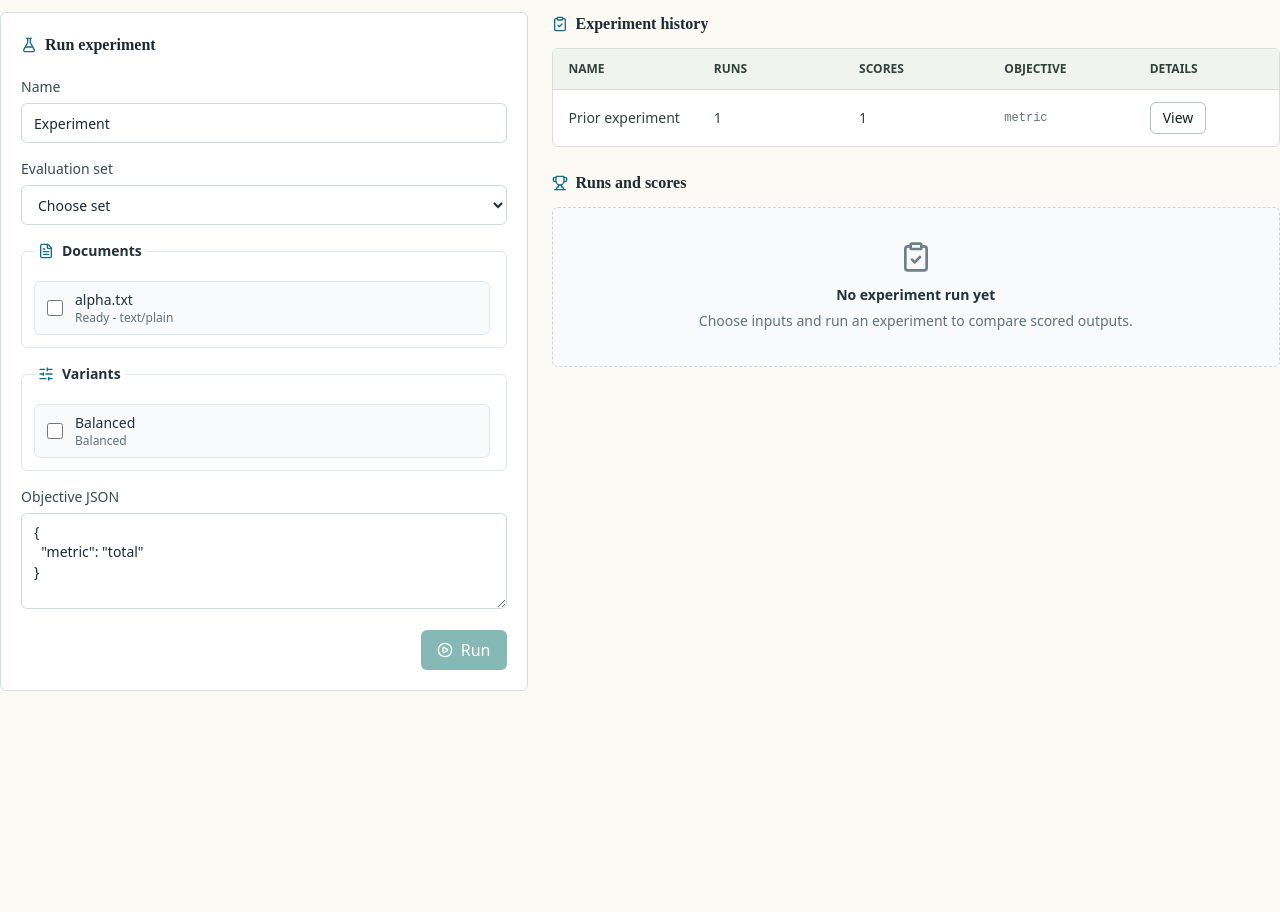
Test: ExperimentsPage › renders API-backed experiment history and refetches it after create
Expected: the text "Prior experiment" is shown, [568,108,682,128]
Expected: the text "metric" is shown, [1004,111,1048,125]
Click the button "View" at (1178, 118), box [1150,102,1206,134]
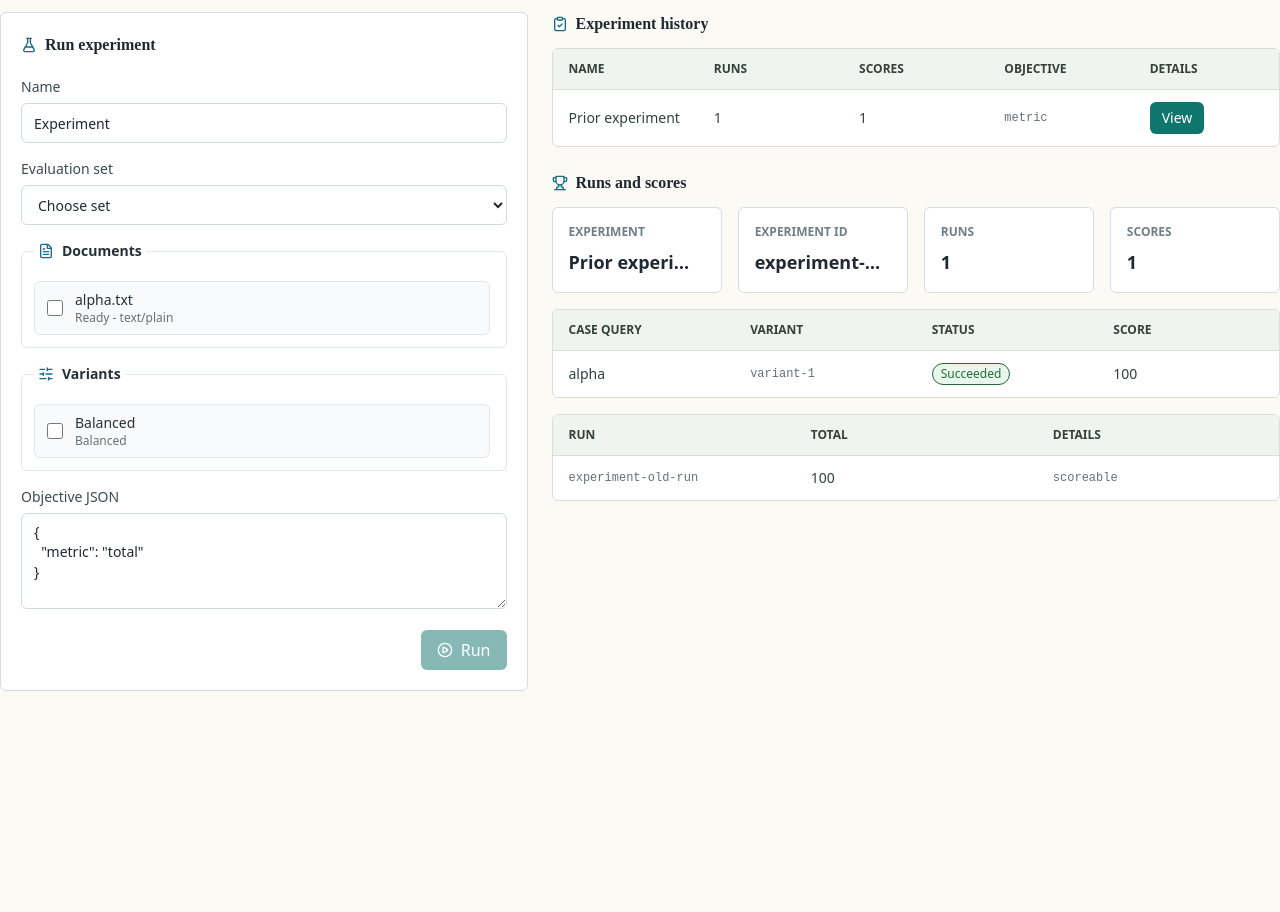
Expected: the text "experiment-old-run" is shown, [568,471,698,485]
Replace the text in the field labelled "Name" with "New experiment" at (264, 123), box [21,103,506,143]
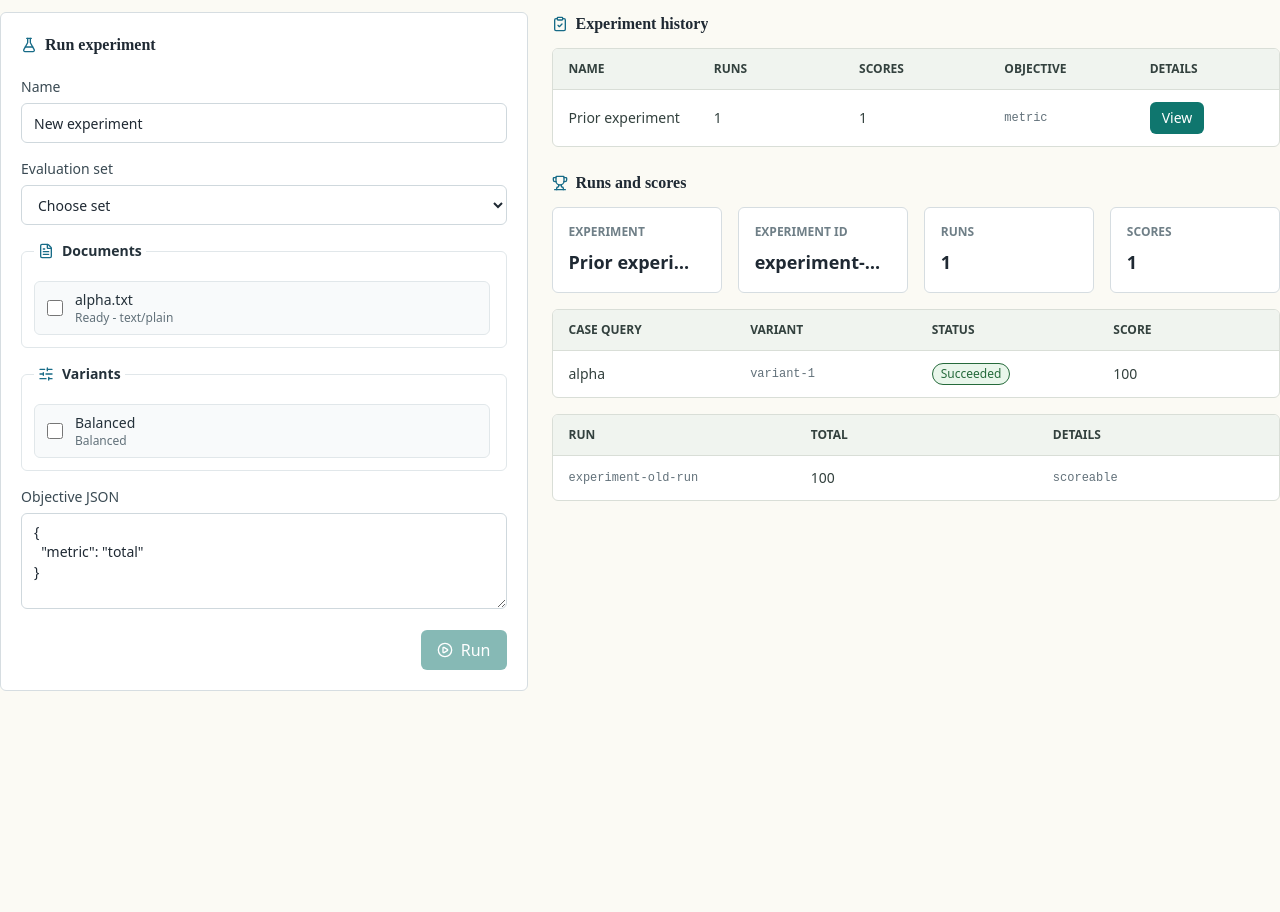
Select "Smoke cases (1)" in the dropdown labelled "Evaluation set" at (264, 205), box [21,185,506,225]
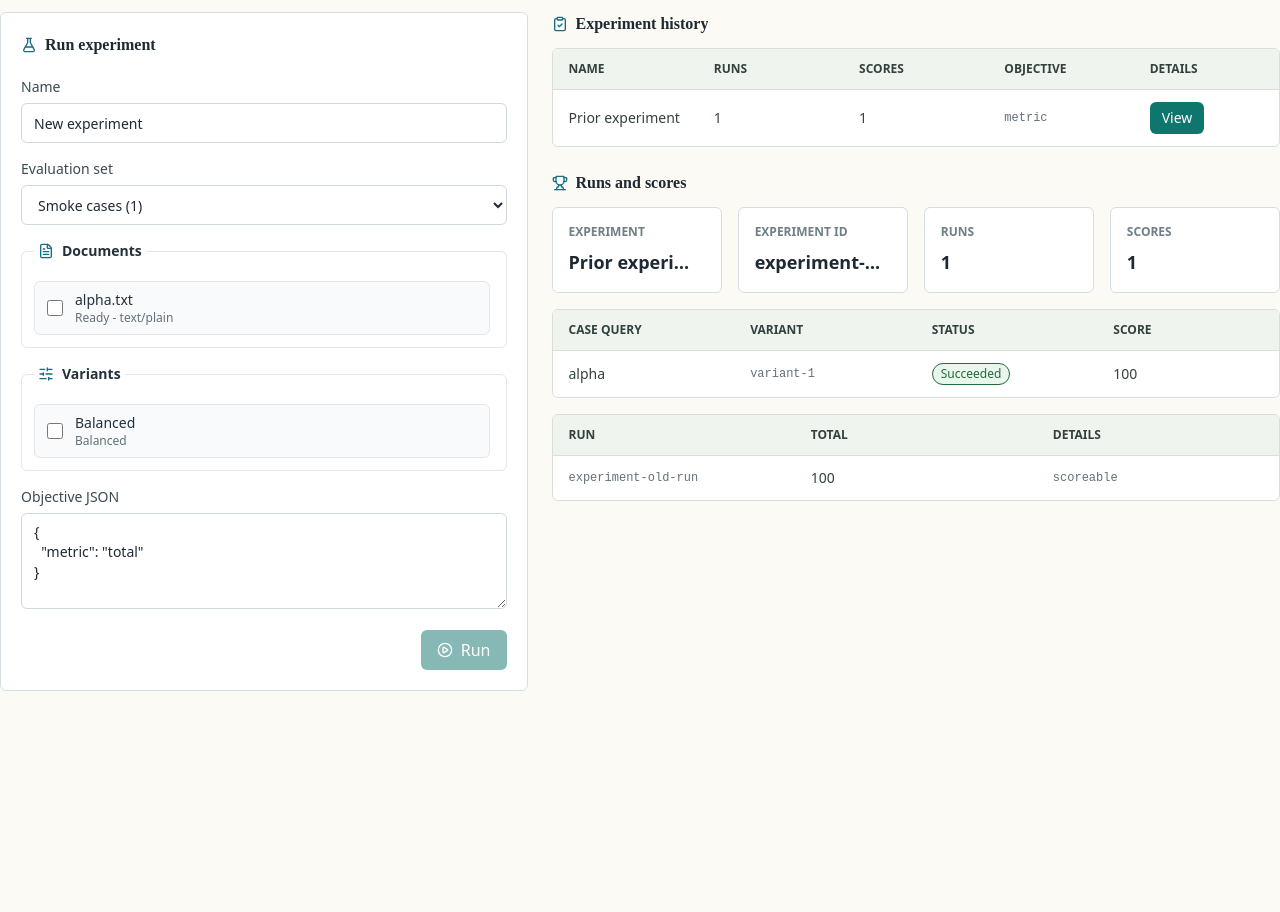
Click the checkbox labelled "alpha.txt Ready - text/plain" at (55, 308), box [47,300,63,316]
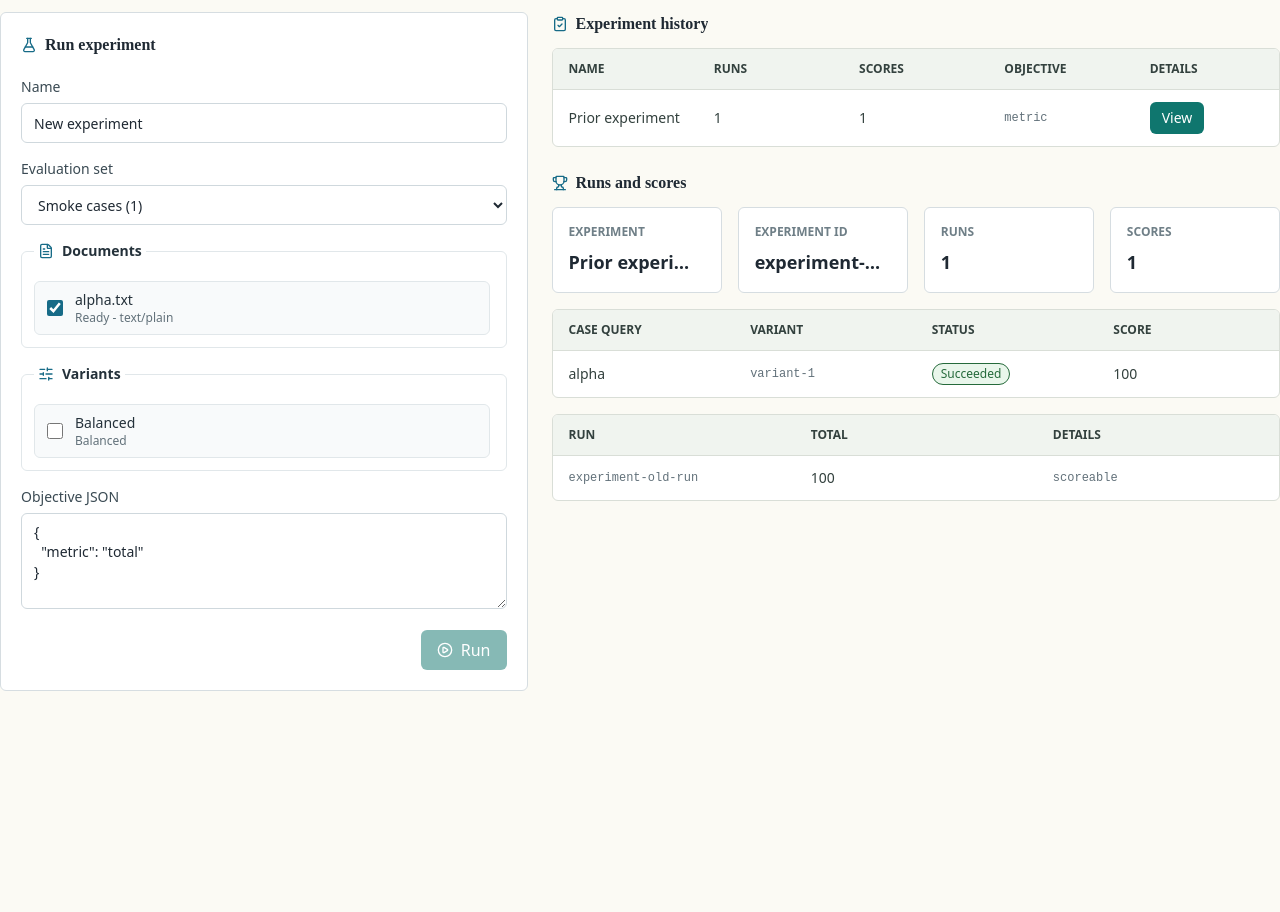
Click the checkbox labelled "Balanced Balanced" at (55, 431), box [47,423,63,439]
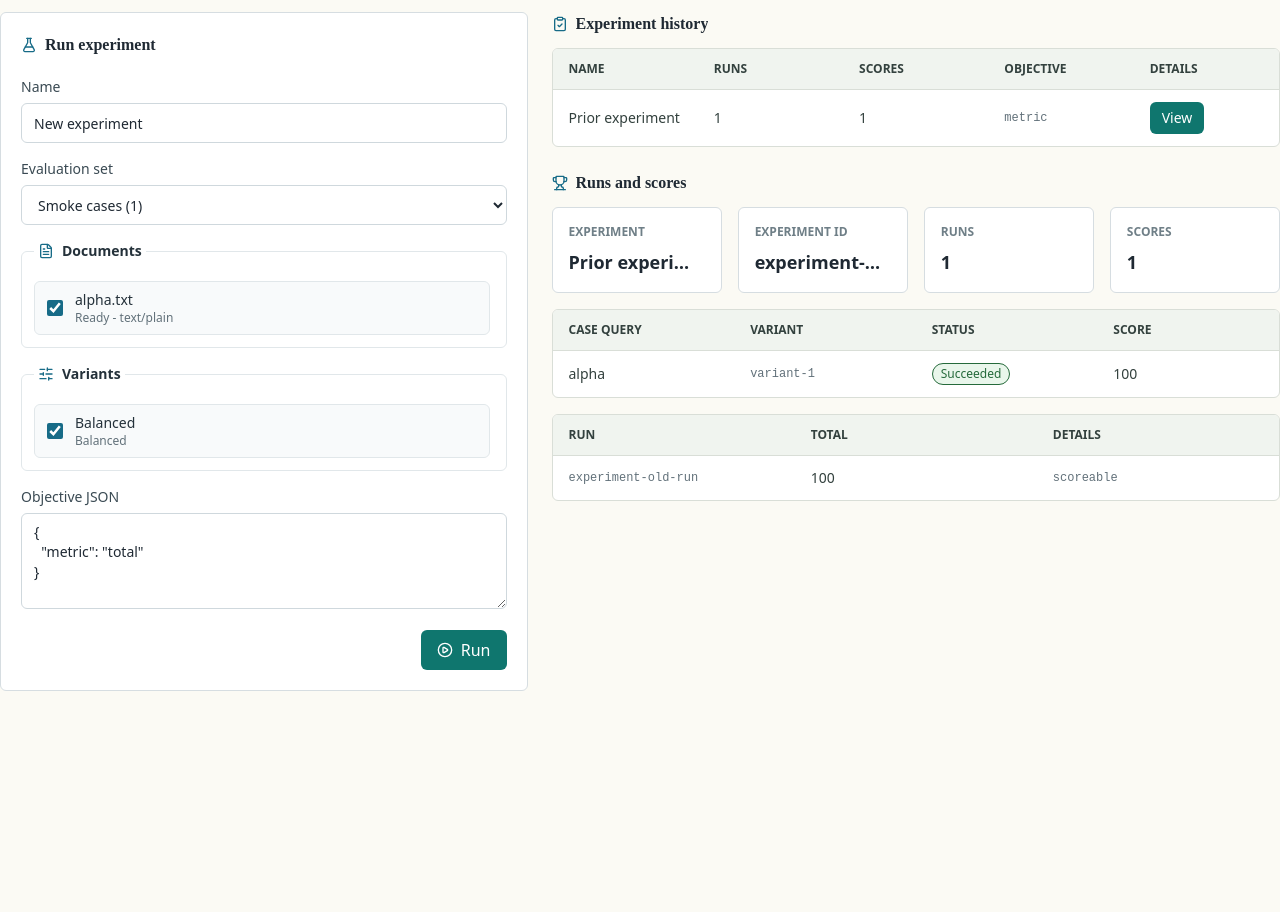
Click the button "Run" at (464, 650), box [421,630,506,670]
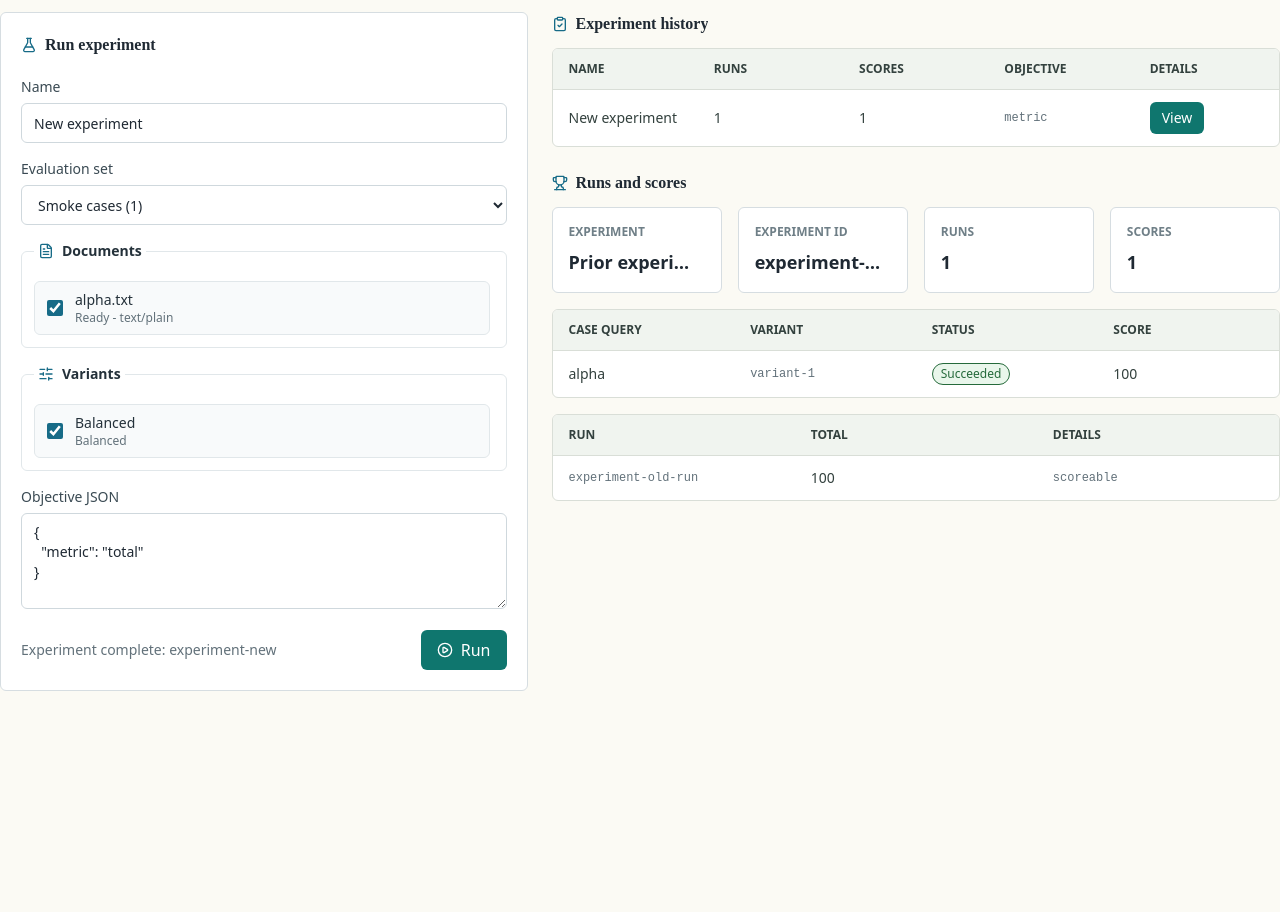
Expected: the text "New experiment" is shown, [568,108,682,128]
